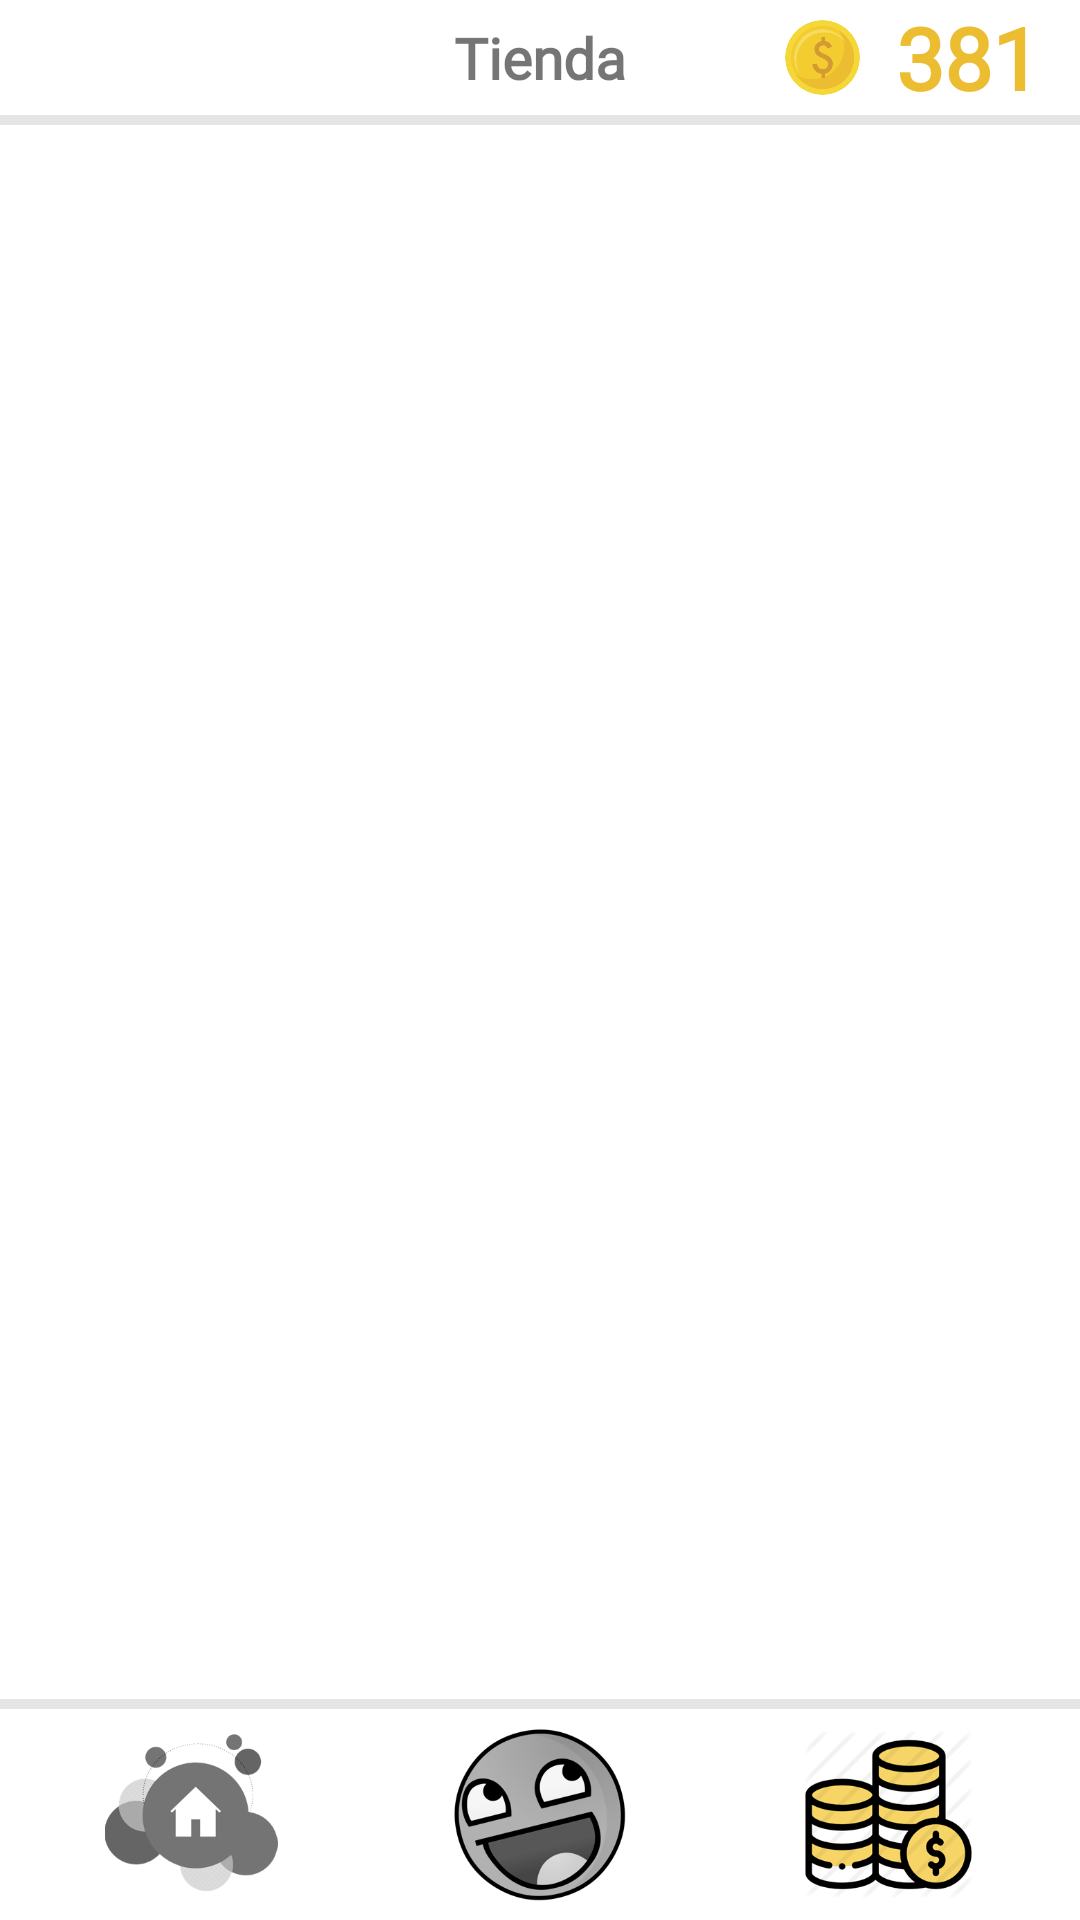

Icon click points for this 1080px x 1920px phone screenshot, format point (x, y):
inicio: point (191, 1812)
moneda: point (822, 57)
perfil: point (540, 1815)
